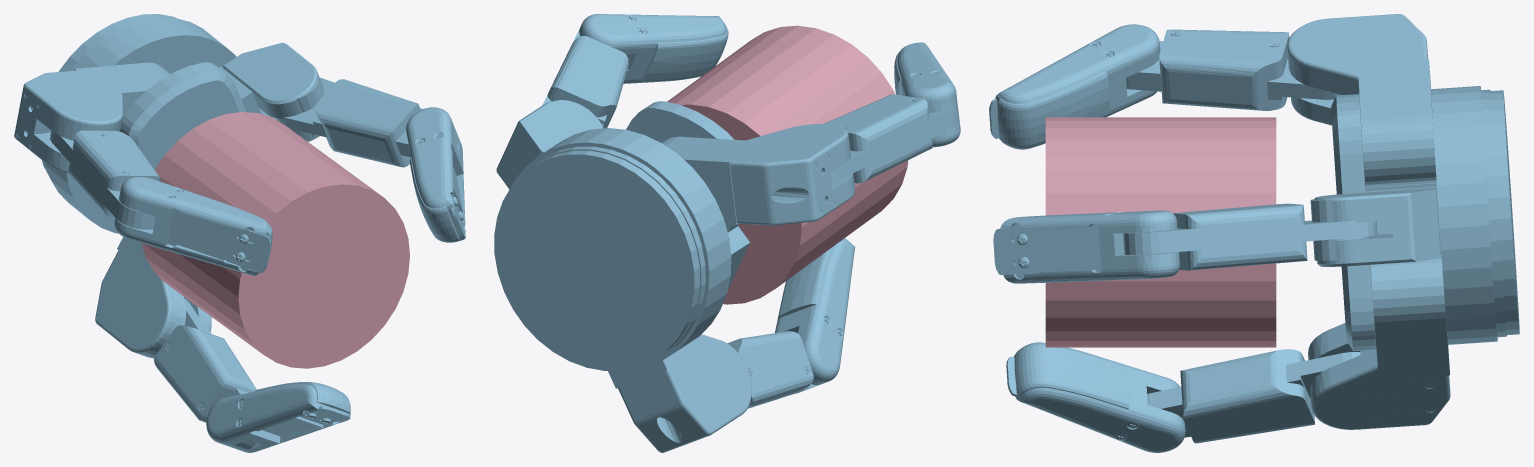
The picture shows the model from 3 angles, left to right: view 1: azimuth 30°, elevation 25°; view 2: azimuth 150°, elevation 25°; view 3: azimuth 270°, elevation 25°; orthographic projection. The views are drawn at different scales.
Parts seen in each view (by area): view 1: world, cylinder_medium.stl; view 2: world, cylinder_medium.stl; view 3: world, cylinder_medium.stl.
Part boxes in pixels (x1=…): world: x1=14, y1=14, x2=465, y2=452; cylinder_medium.stl: x1=141, y1=112, x2=409, y2=368; world: x1=494, y1=14, x2=960, y2=452; cylinder_medium.stl: x1=667, y1=25, x2=908, y2=304; world: x1=989, y1=14, x2=1519, y2=452; cylinder_medium.stl: x1=1045, y1=117, x2=1276, y2=347.
Size of the model in its own units: 0.1628 by 0.1429 by 0.1841.
